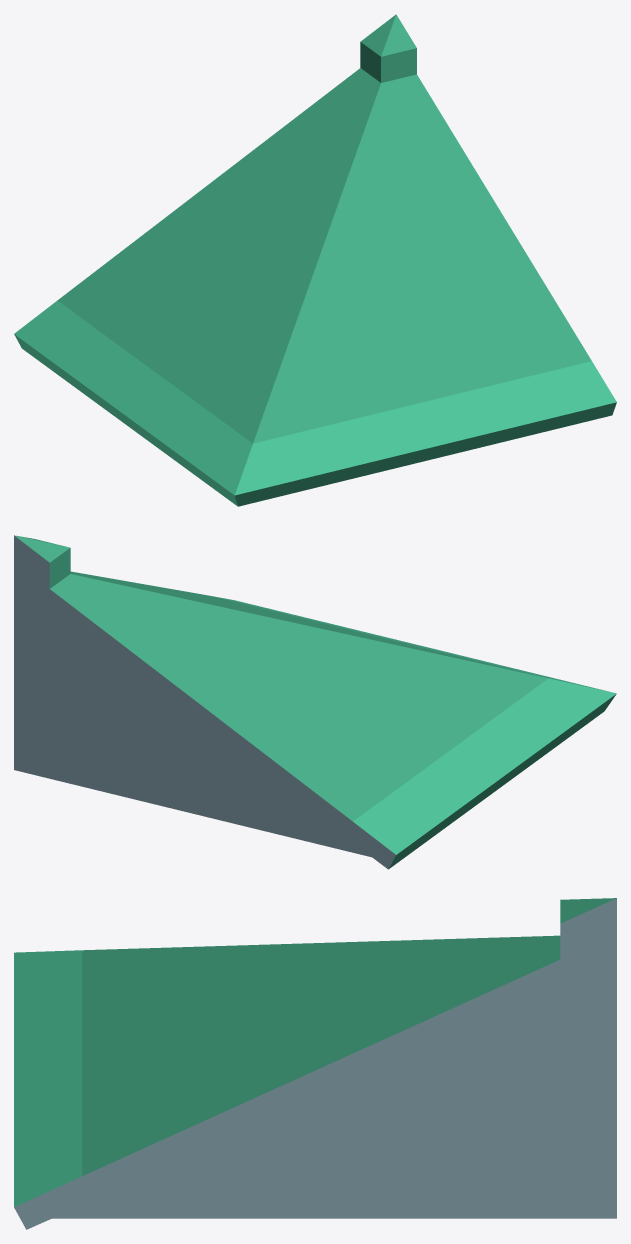
Rendered from roofCorner.obj.
3 renders of one model, top to bottom at view 1: azimuth 30°, elevation 25°; view 2: azimuth 150°, elevation 25°; view 3: azimuth 270°, elevation 25°, orthographic. The views are drawn at different scales.
Parts seen in each view (by area): view 1: roofCorner; view 2: roofCorner; view 3: roofCorner.
Boxes of the visible parts, x1,y1,x2,y2 form: roofCorner: (14, 14, 616, 506); roofCorner: (14, 535, 616, 869); roofCorner: (14, 898, 616, 1229).
Size of the model in its own units: 1.07 by 0.648 by 1.07.
